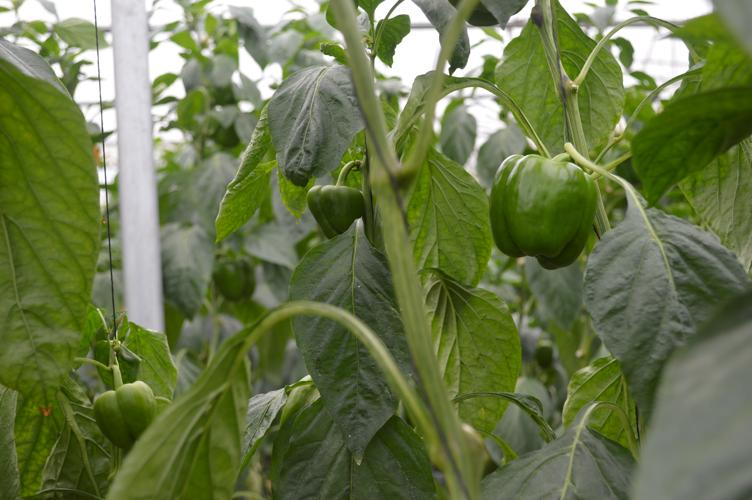BellPepper: (482, 142, 604, 279), (83, 374, 173, 447), (302, 178, 372, 250), (206, 249, 265, 304)
